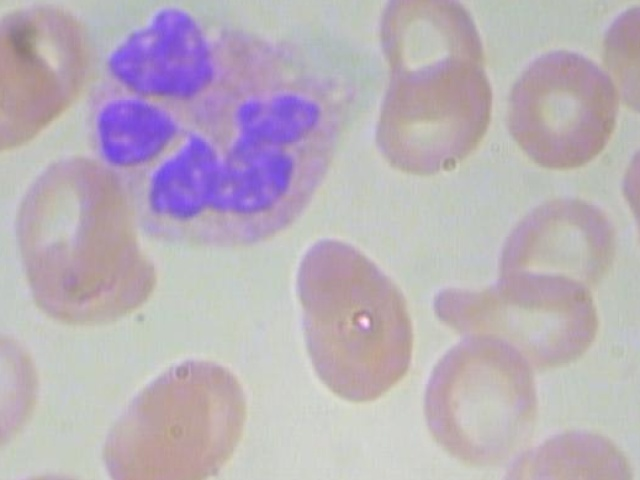RBC: (280, 225, 416, 400), (96, 343, 257, 480), (428, 275, 637, 370), (481, 193, 628, 316), (502, 37, 631, 173), (423, 335, 548, 463), (368, 0, 489, 116), (0, 0, 98, 124), (0, 321, 56, 454), (525, 425, 640, 480)
WBC: (80, 0, 362, 253)
